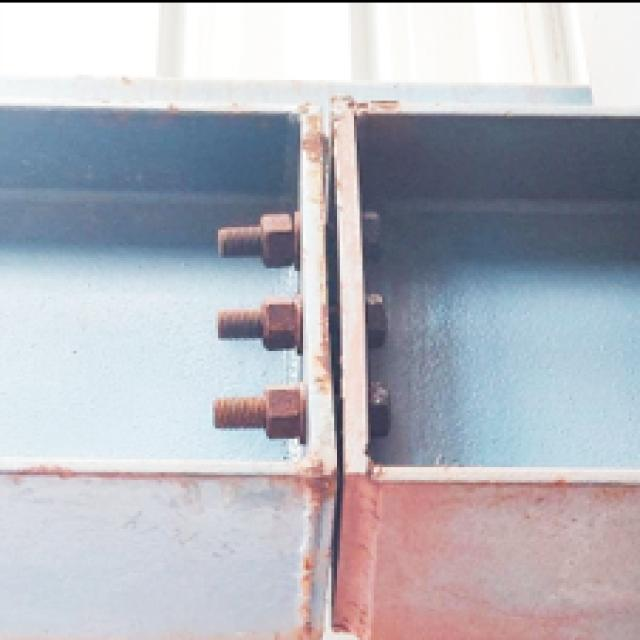Rusty bolt: (208, 208, 326, 270), (201, 294, 315, 358)
